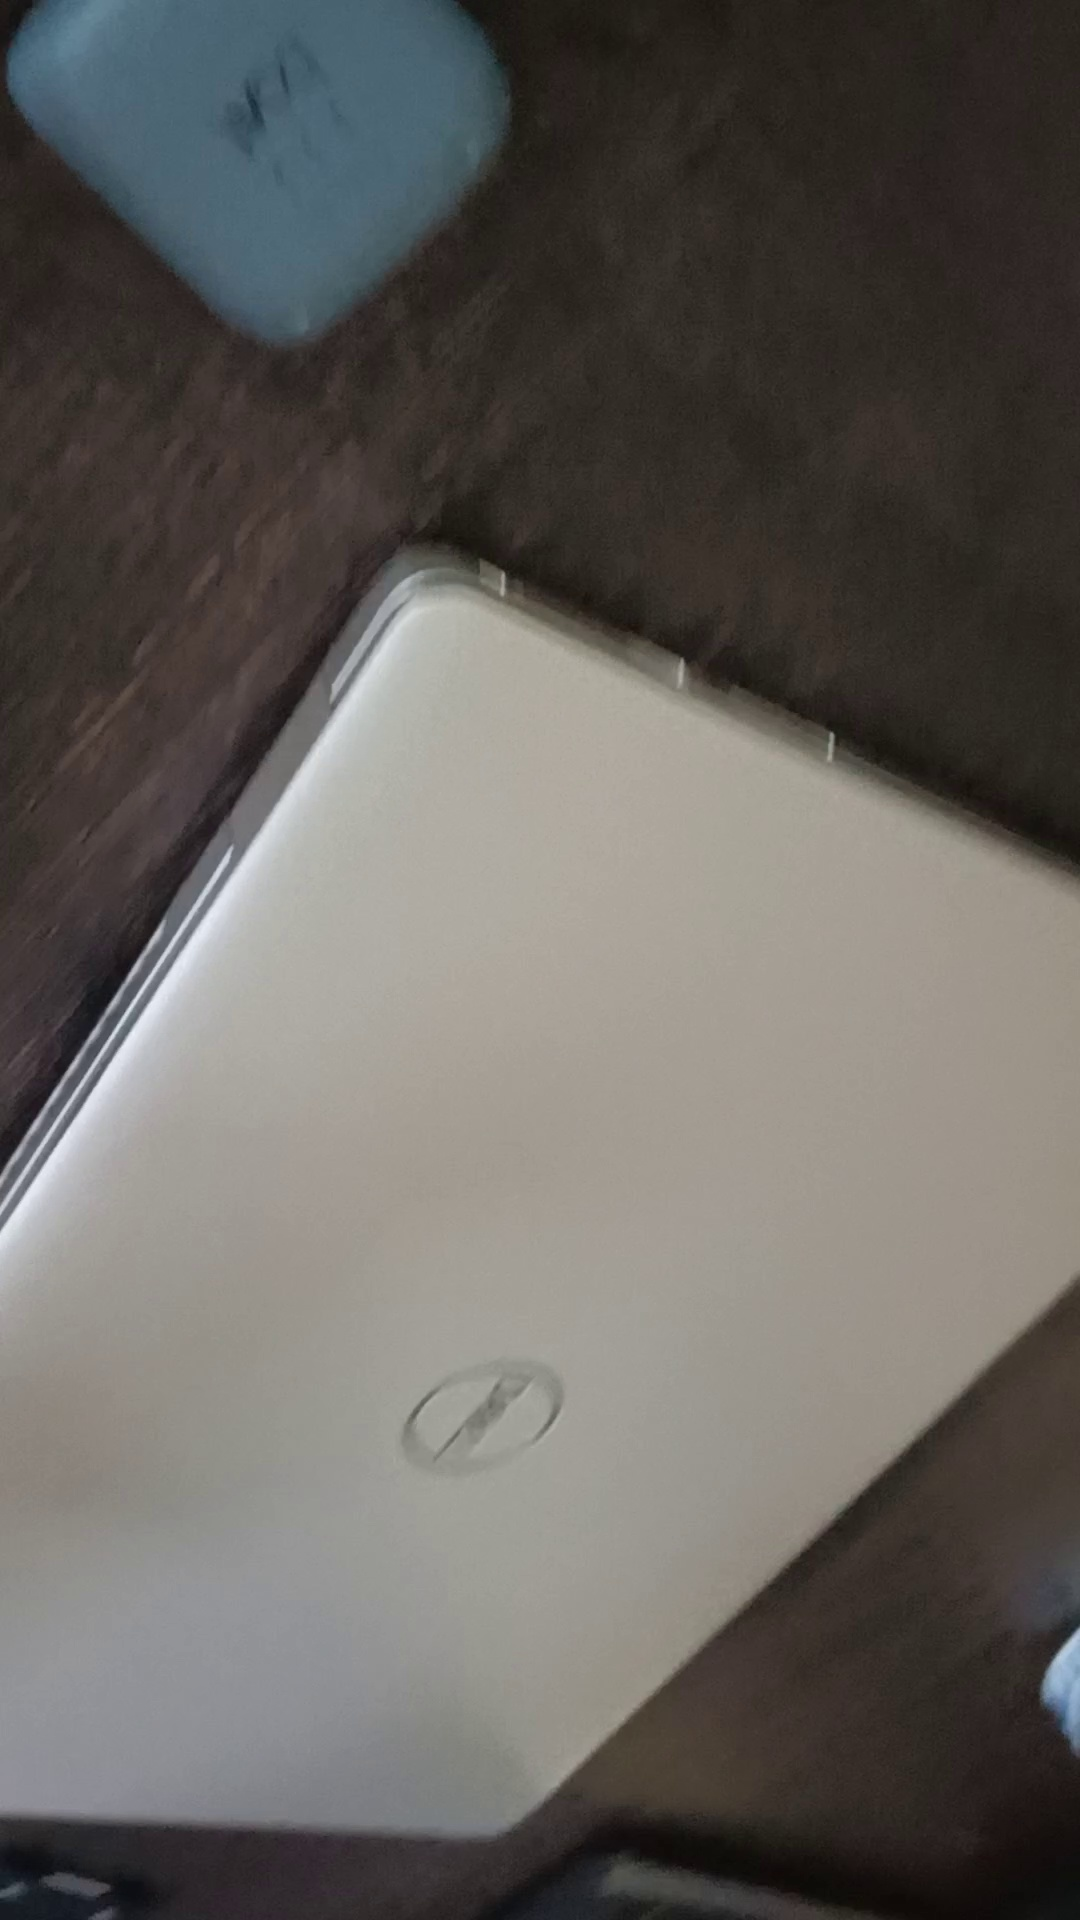laptop: (1, 524, 1059, 1844)
